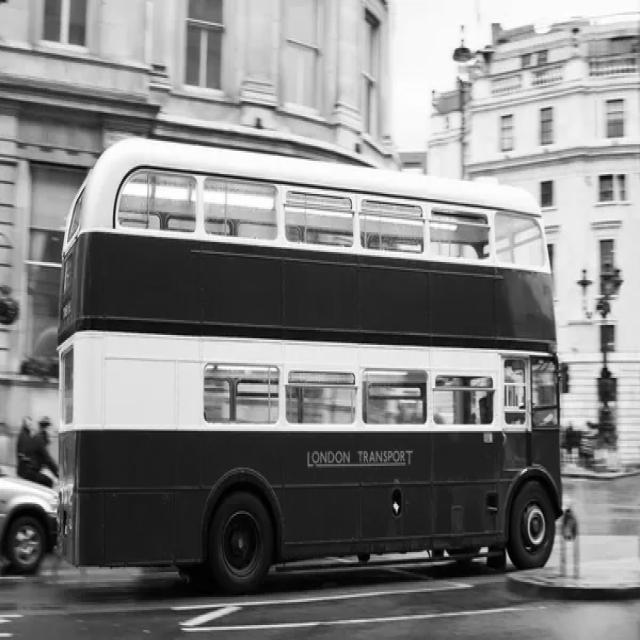Bus: (45, 144, 565, 558)
